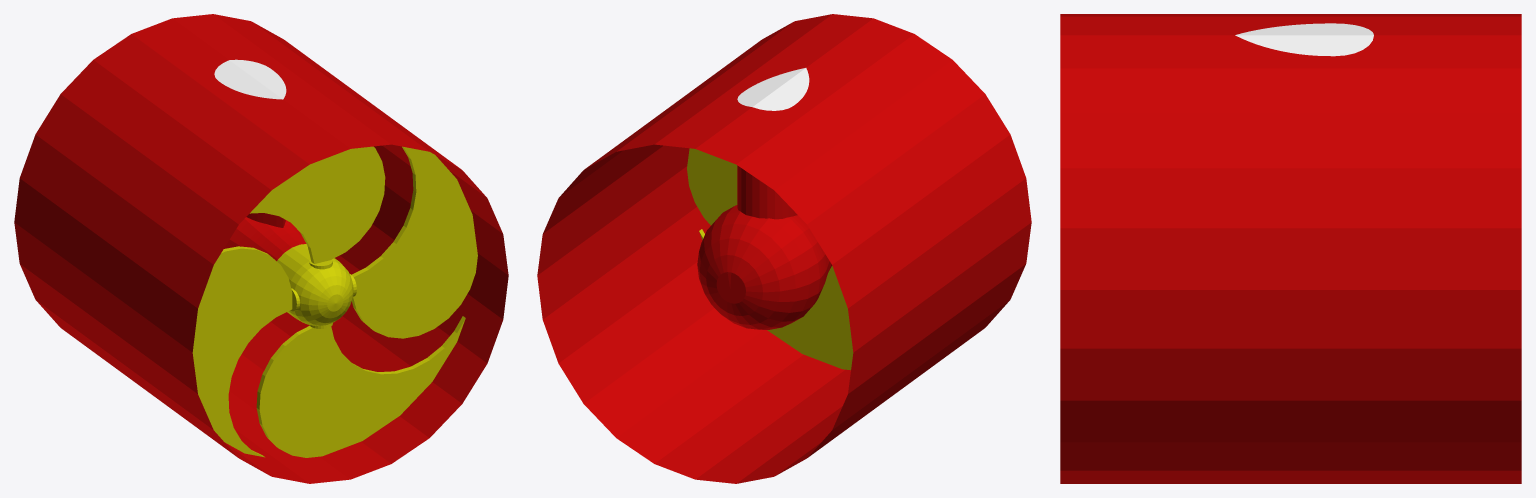
Rendered from thruster.dae.
The picture shows the model from 3 angles, left to right: view 1: azimuth 30°, elevation 25°; view 2: azimuth 150°, elevation 25°; view 3: azimuth 270°, elevation 25°; orthographic projection. The views are drawn at different scales.
Parts seen in each view (by area): view 1: skpA138 (×8); view 2: skpA138 (×6); view 3: skpA138 (×2).
Boxes of the visible parts, left/top/right/bottom form: skpA138 (×8): left=14, top=14, right=508, bottom=483; skpA138 (×6): left=537, top=14, right=1031, bottom=483; skpA138 (×2): left=1060, top=14, right=1521, bottom=483.
Bounding box in the file's own units: 120 × 117 × 120.
